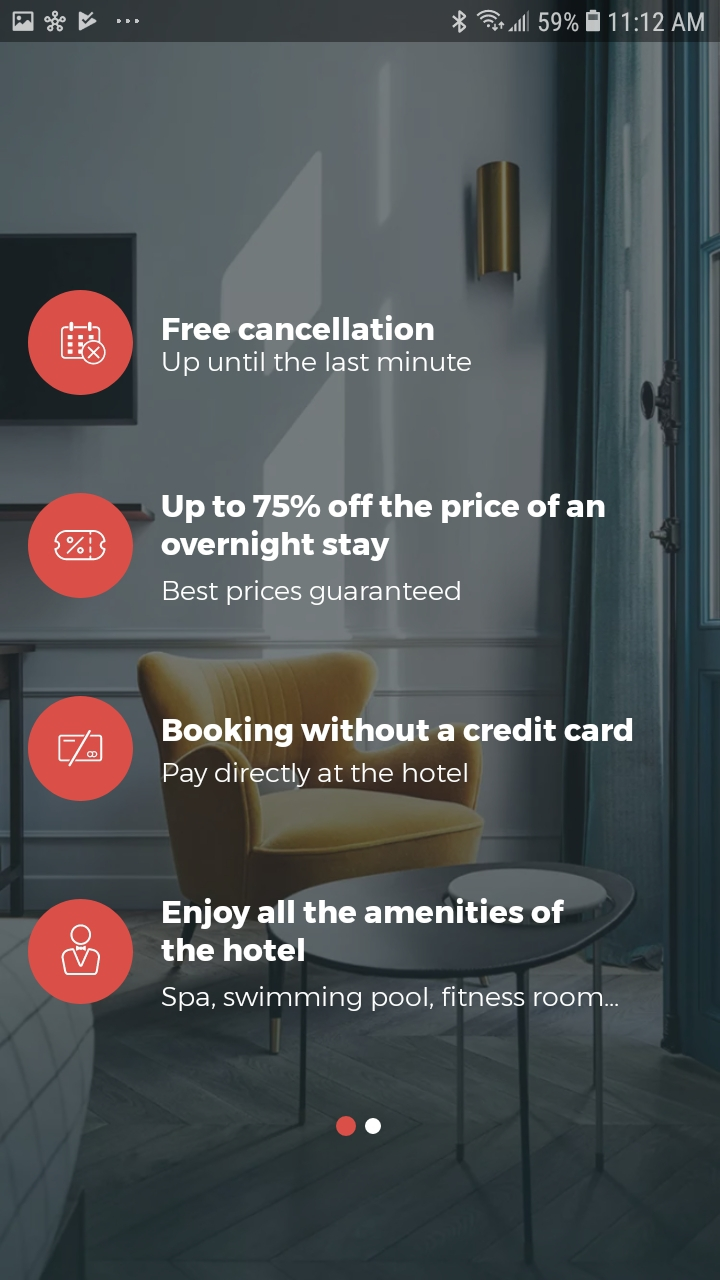BackgroundImage: (1, 43, 720, 1280)
Icon: (28, 695, 135, 802), (28, 899, 134, 1005), (28, 493, 134, 599), (28, 291, 134, 397)
PageIndicator: (335, 1115, 382, 1137)
Text: (160, 897, 619, 1012), (160, 492, 605, 607), (162, 715, 633, 789), (162, 315, 472, 378)
UpperTaskBar: (1, 1, 720, 43)
